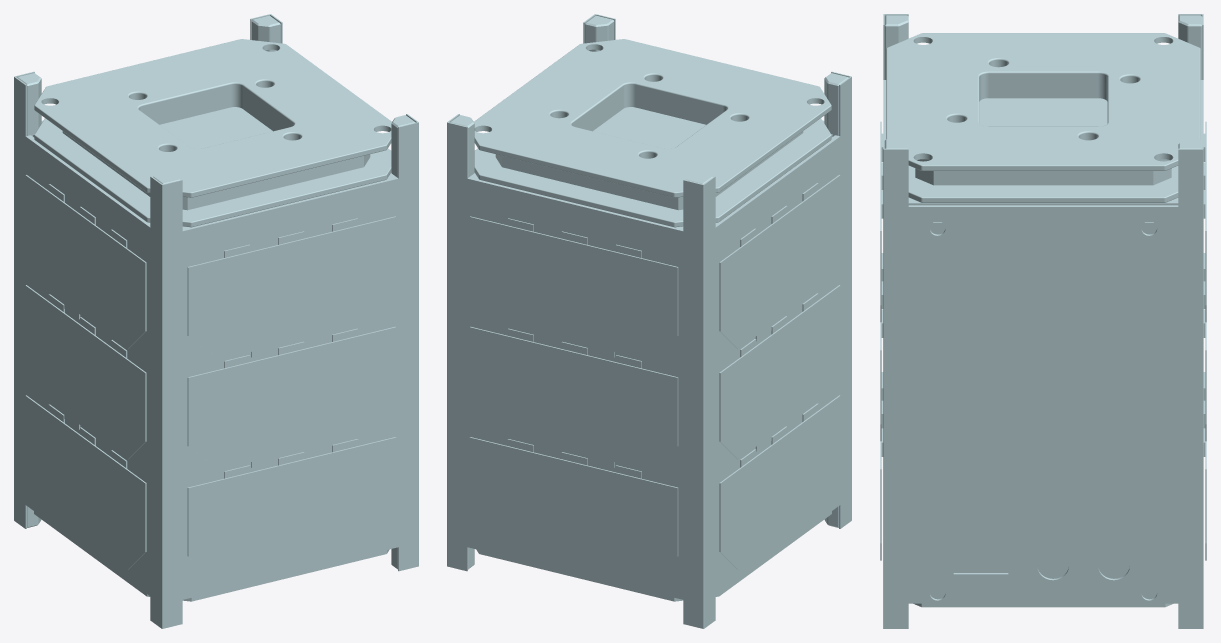
File: cubesat.glb
The picture shows the model from 3 angles, left to right: view 1: azimuth 30°, elevation 25°; view 2: azimuth 150°, elevation 25°; view 3: azimuth 270°, elevation 25°; orthographic projection. The views are drawn at different scales.
Parts seen in each view (by area): view 1: Default; view 2: Default; view 3: Default.
Part boxes in pixels (x1,y1,x2,y2): Default: [14, 14, 418, 628]; Default: [447, 14, 851, 628]; Default: [880, 14, 1206, 628].
Bounding box in the file's own units: 102 × 165 × 102.
